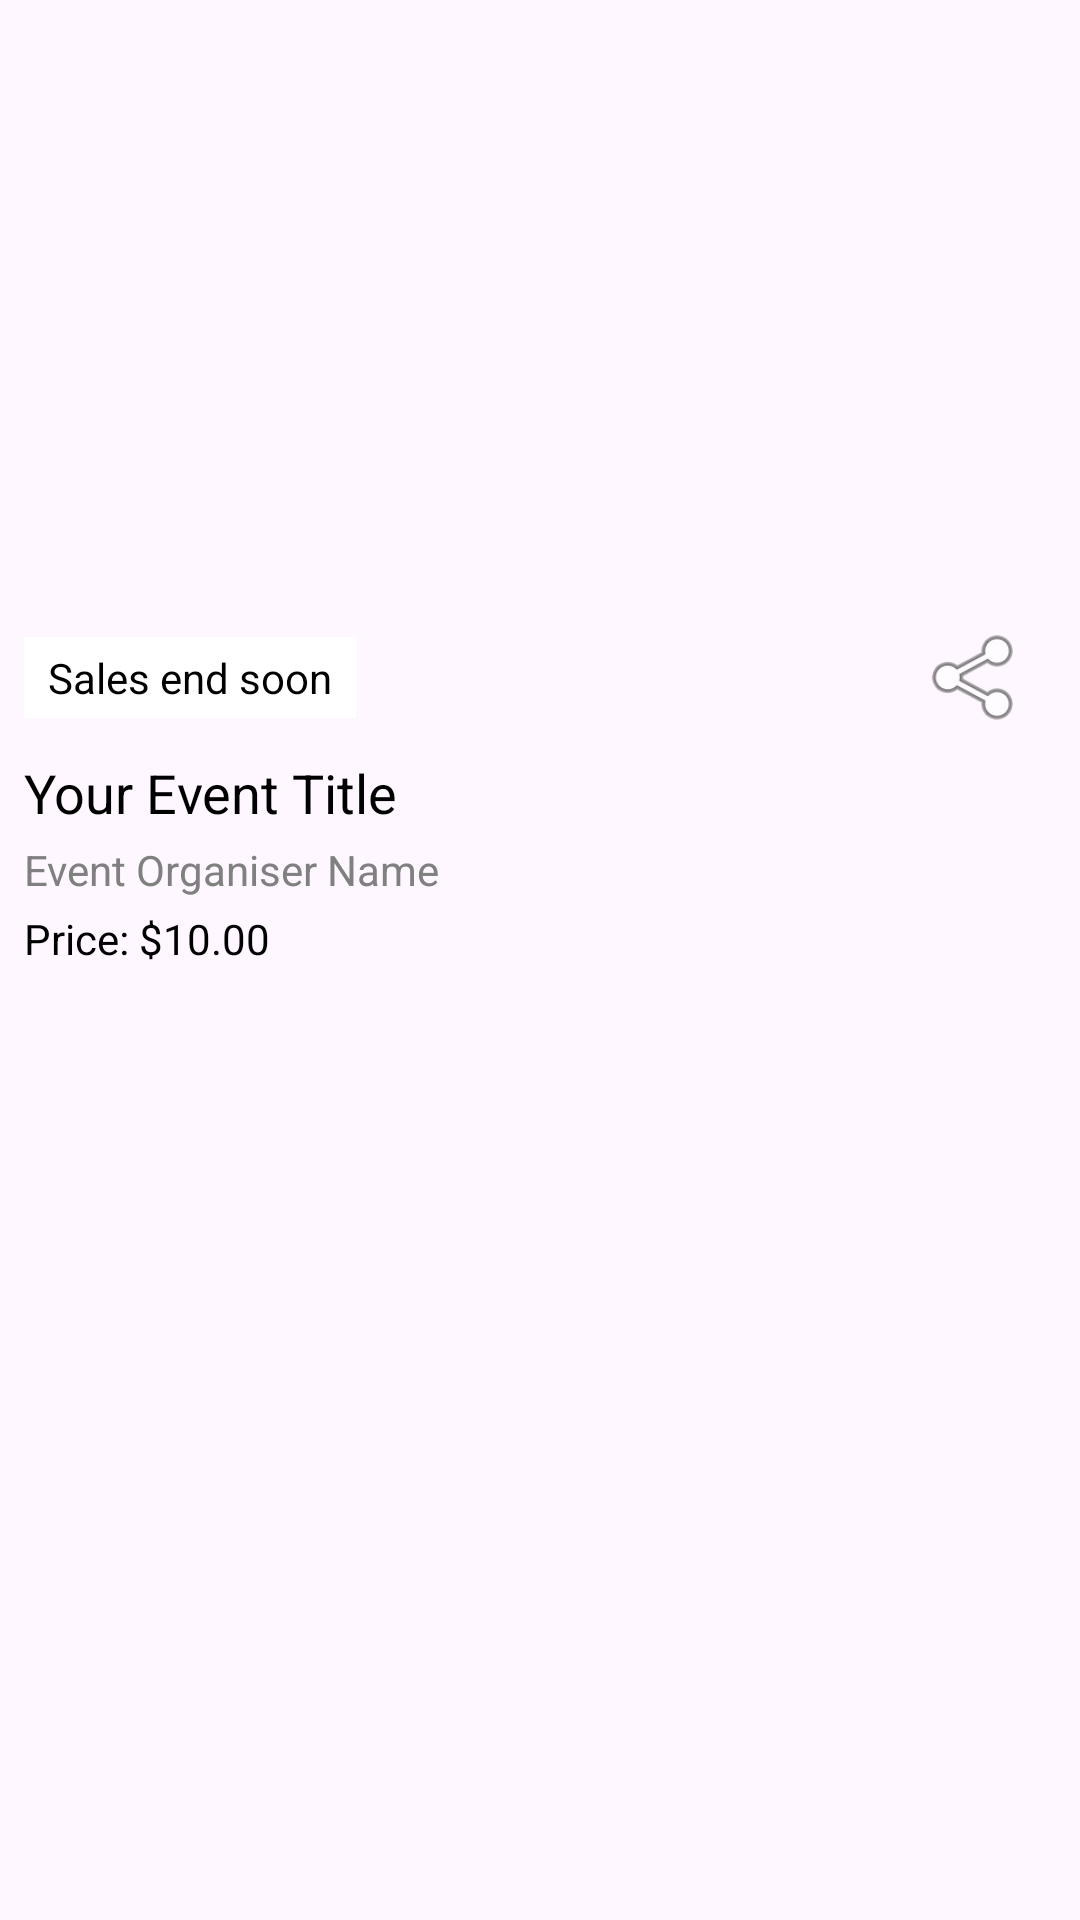

Locate icon controls on the screen. Image size 1080 x 1920, boxes as (x1, y1, x2, y2).
share: (932, 635, 1013, 720)
